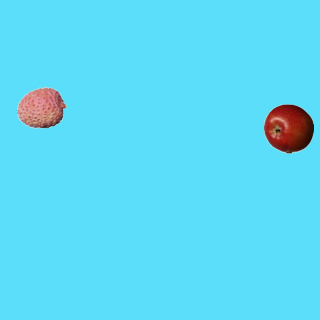Apple Braeburn: (263, 103, 313, 153)
Lychee: (16, 82, 66, 132)
